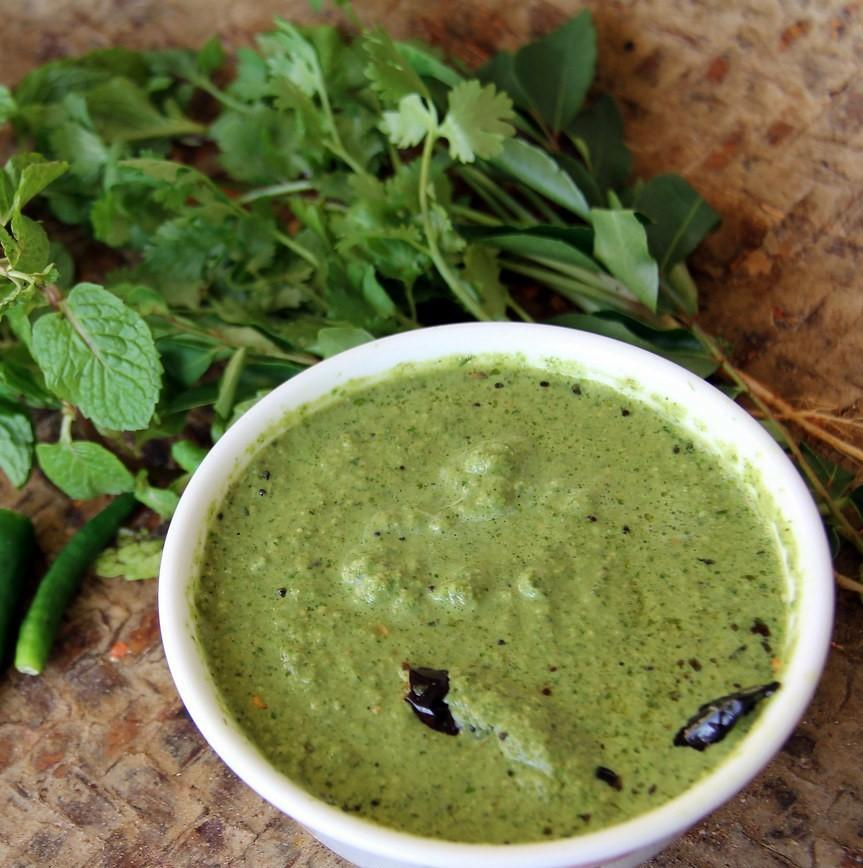GreenChutney: (203, 368, 791, 849)
